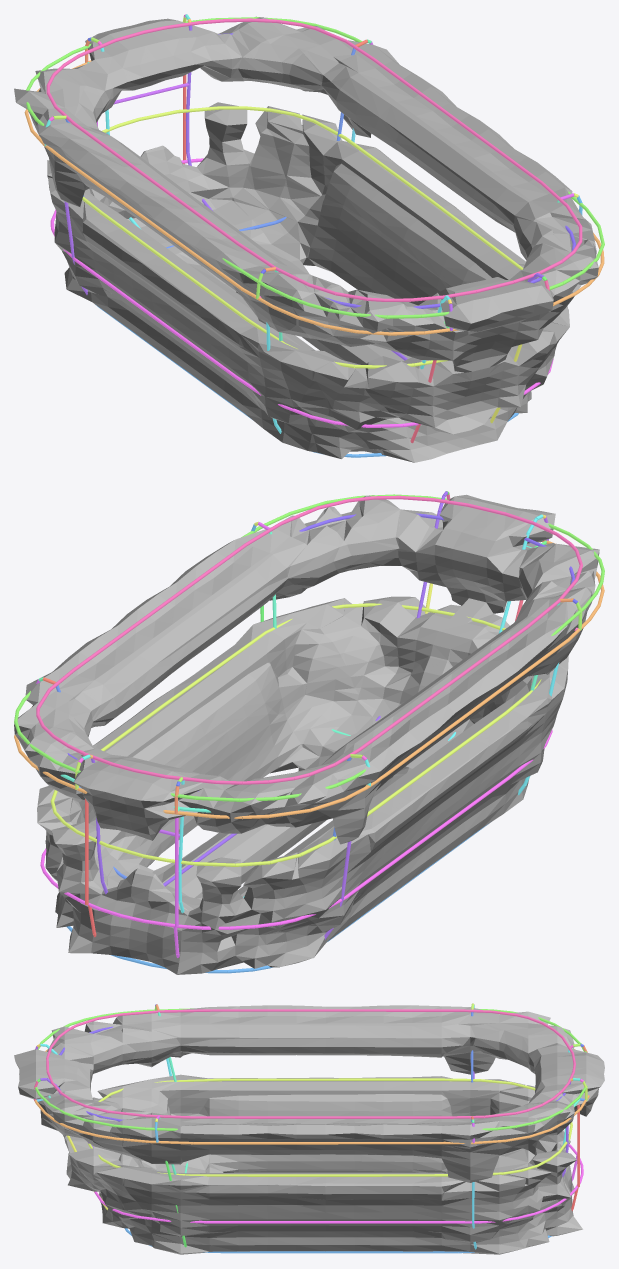
File: flowrep_bathtub.gltf
3 views of the same model, one above another, from view 1: azimuth 30°, elevation 25°; view 2: azimuth 150°, elevation 25°; view 3: azimuth 270°, elevation 25° (orthographic). The views are drawn at different scales.
Size of the model in its own units: 0.4674 by 0.2832 by 0.9091.
